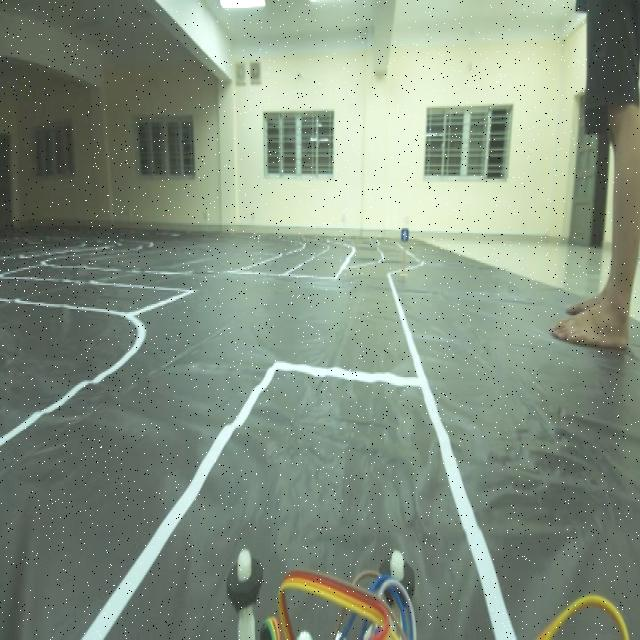onewayroad: (394, 225, 410, 250)
